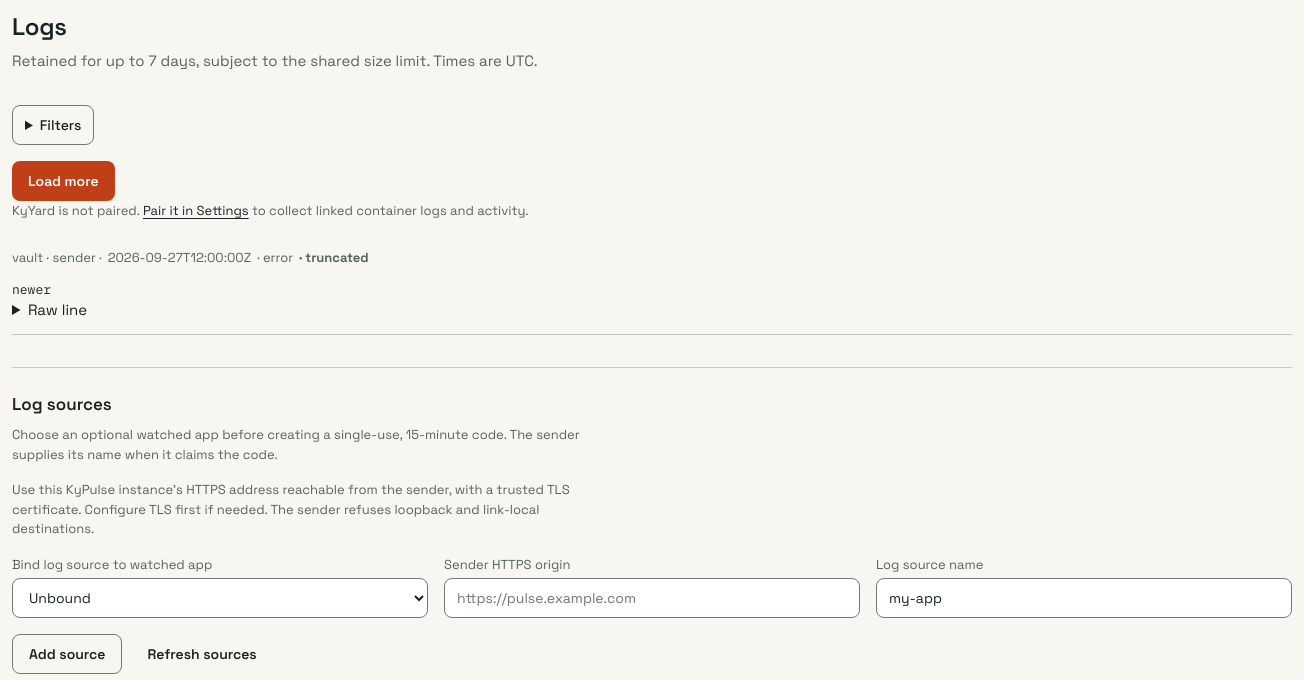
Test case: paginates, resets cursor, and distinguishes failure from empty results
Expected: the text "newer" is shown, [12,280,51,298]
Click the button "Load more" at (63, 180), box [12,160,114,200]
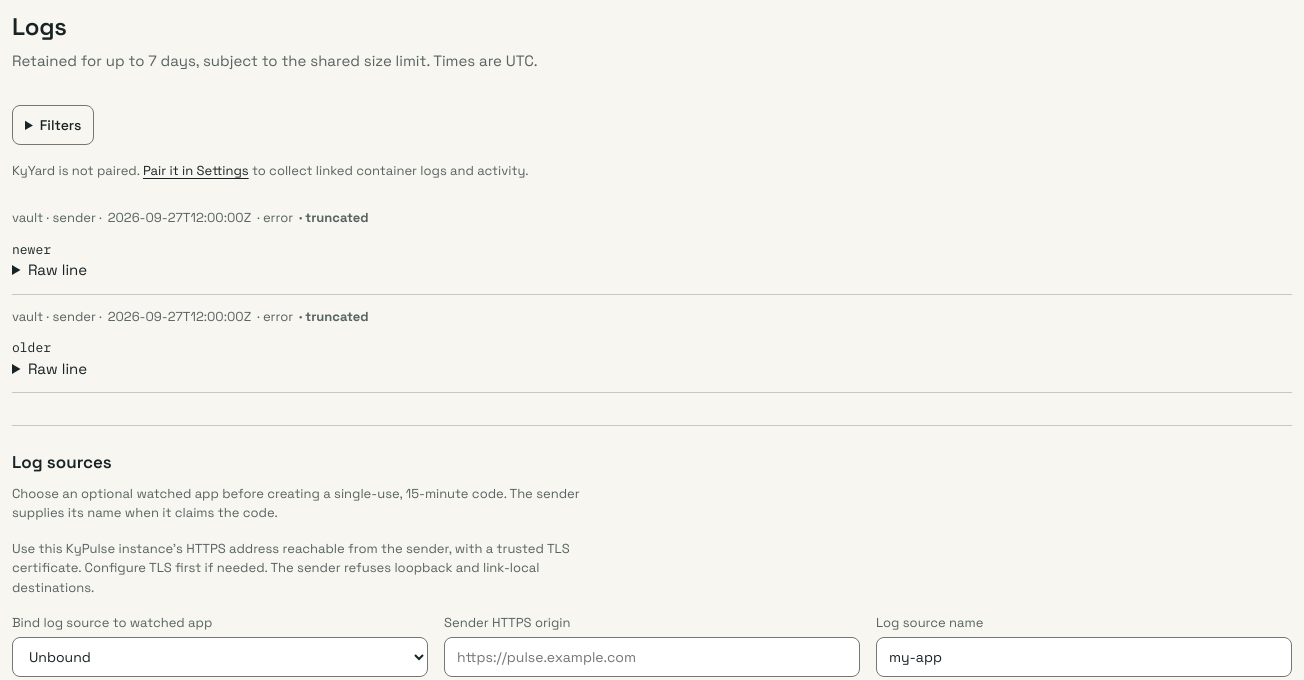
Expected: the text "older" is shown, [12,339,51,356]
Click the heading "Filters" at (53, 124), box [12,104,94,144]
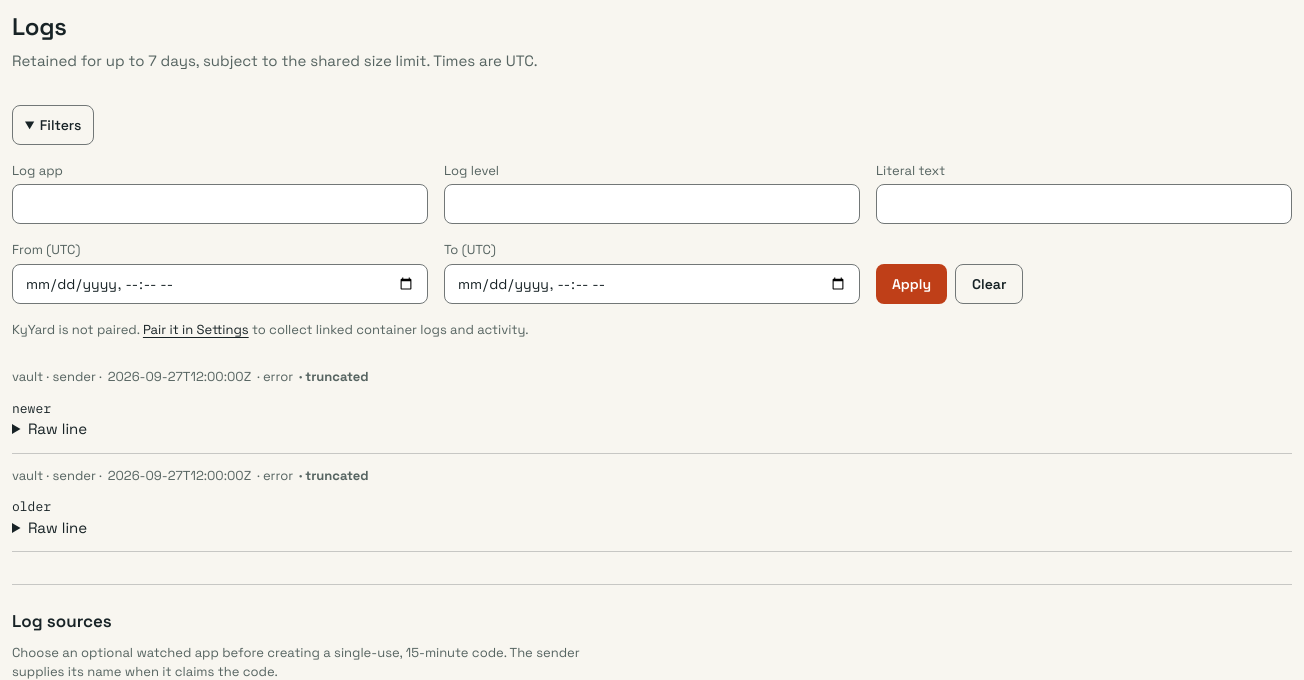
Click the button "Apply" at (912, 284), box [876,264,947,304]
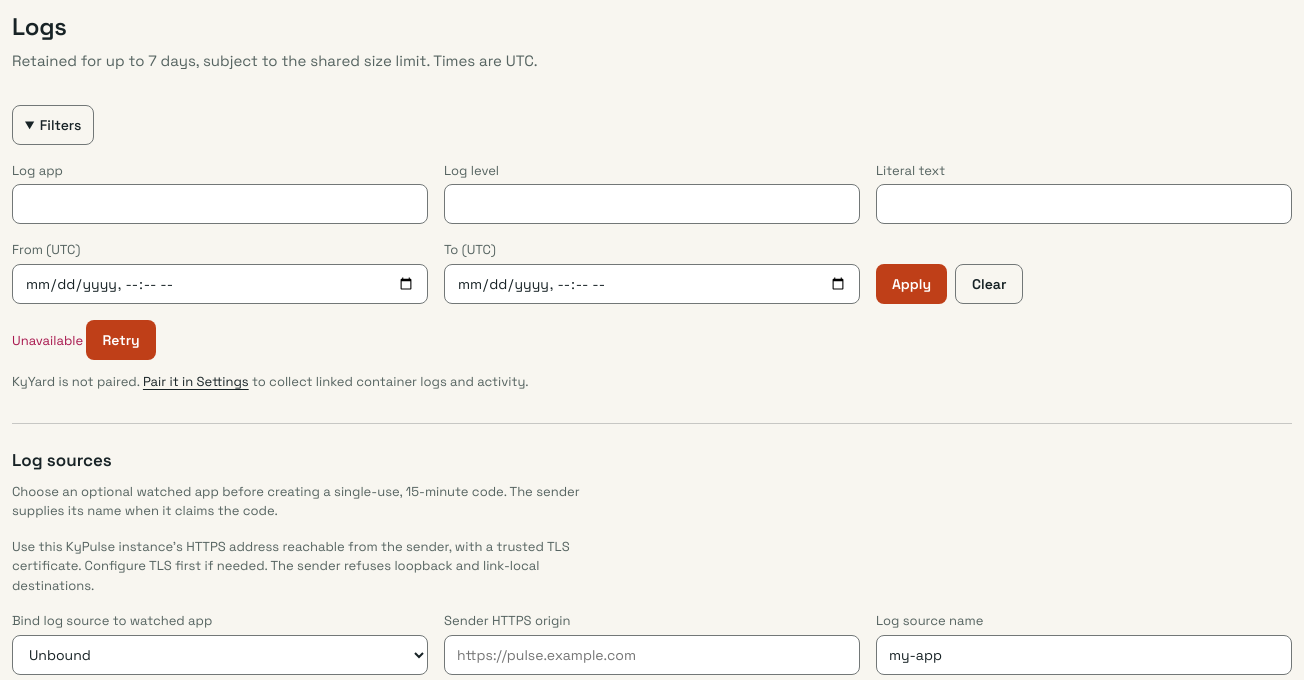
Expected: the text "Unavailable" is shown, [12,332,83,348]
Click the button "Retry" at (121, 340), box [86,320,156,360]
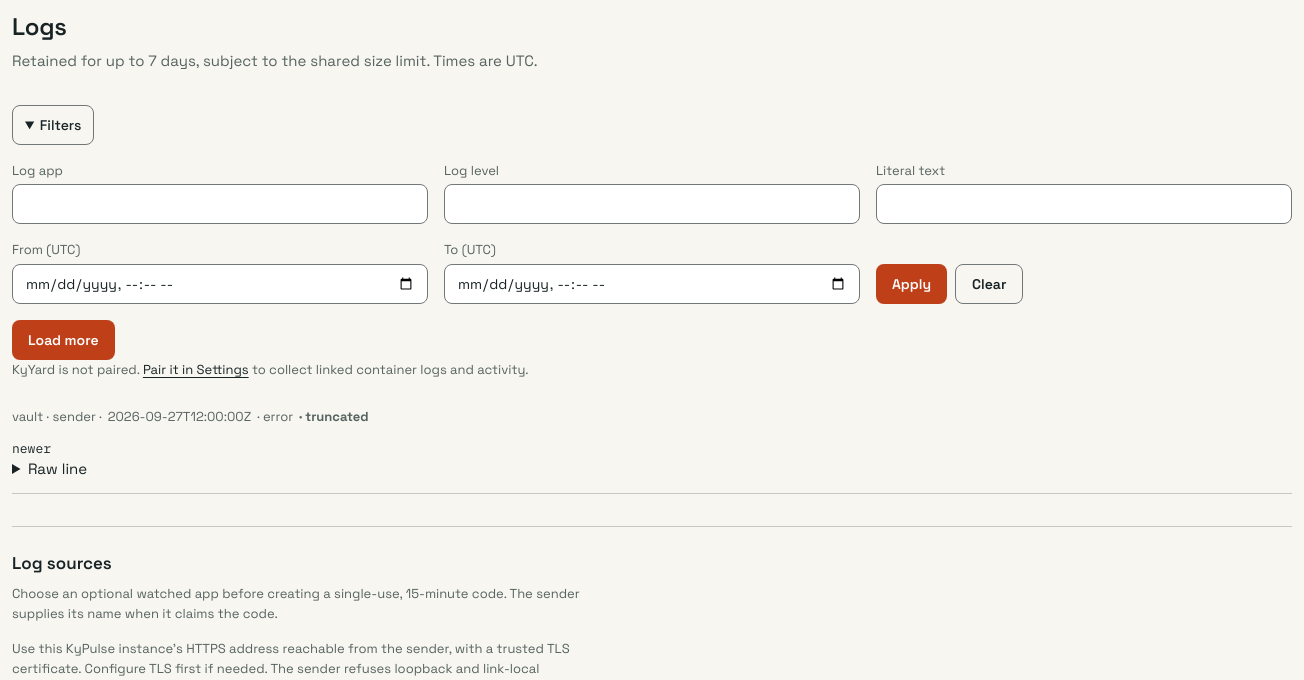
Expected: the text "older" is not shown
Expected: the text "newer" is shown, [12,440,51,456]
